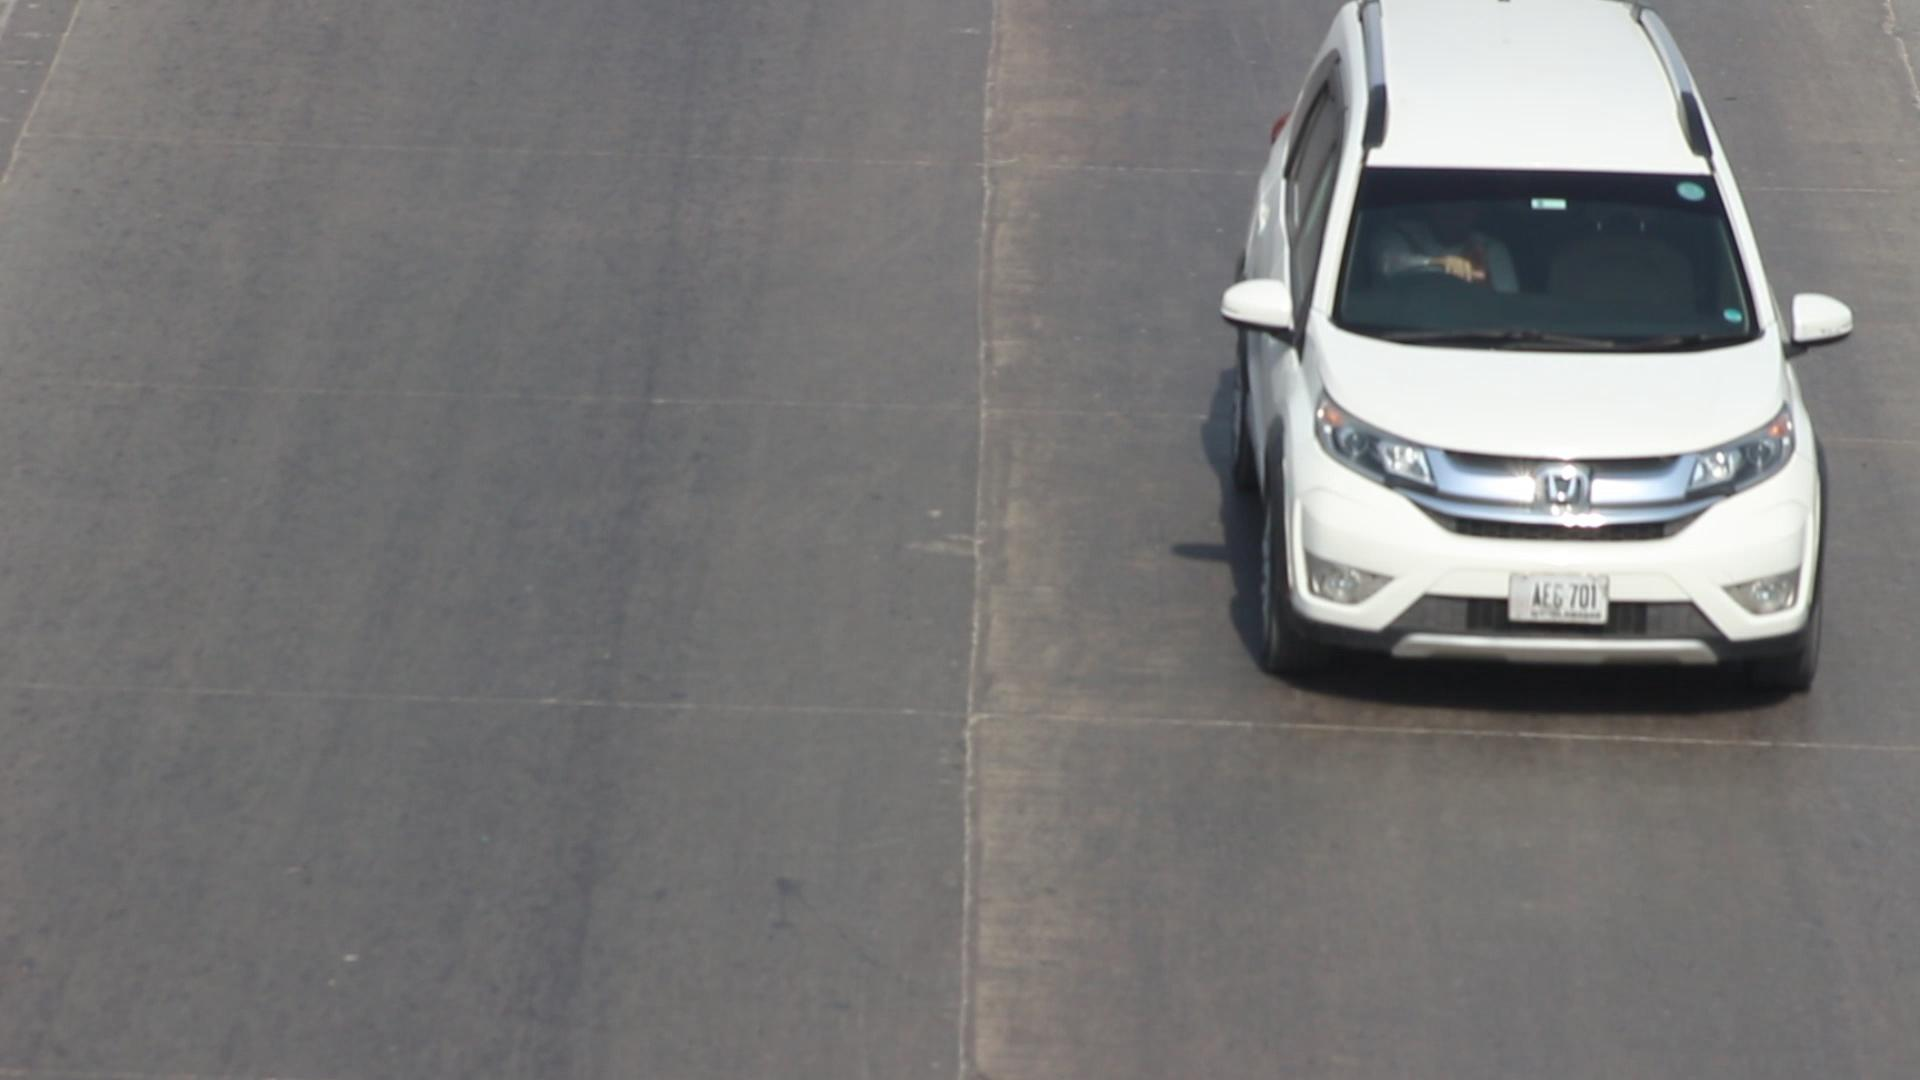windshield: (1327, 144, 1780, 353)
